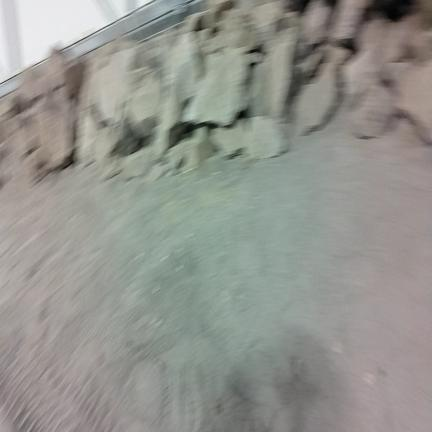Rock: (182, 48, 249, 126), (160, 33, 202, 149), (22, 89, 73, 182), (294, 48, 344, 136), (249, 34, 294, 120), (91, 48, 134, 124), (398, 61, 431, 143), (20, 46, 68, 101), (351, 84, 395, 138), (127, 73, 160, 139), (168, 127, 215, 173), (298, 0, 331, 56), (343, 51, 376, 102), (247, 117, 286, 159), (333, 0, 371, 41), (211, 120, 248, 157), (298, 45, 326, 85), (121, 147, 153, 180), (205, 0, 235, 30)
